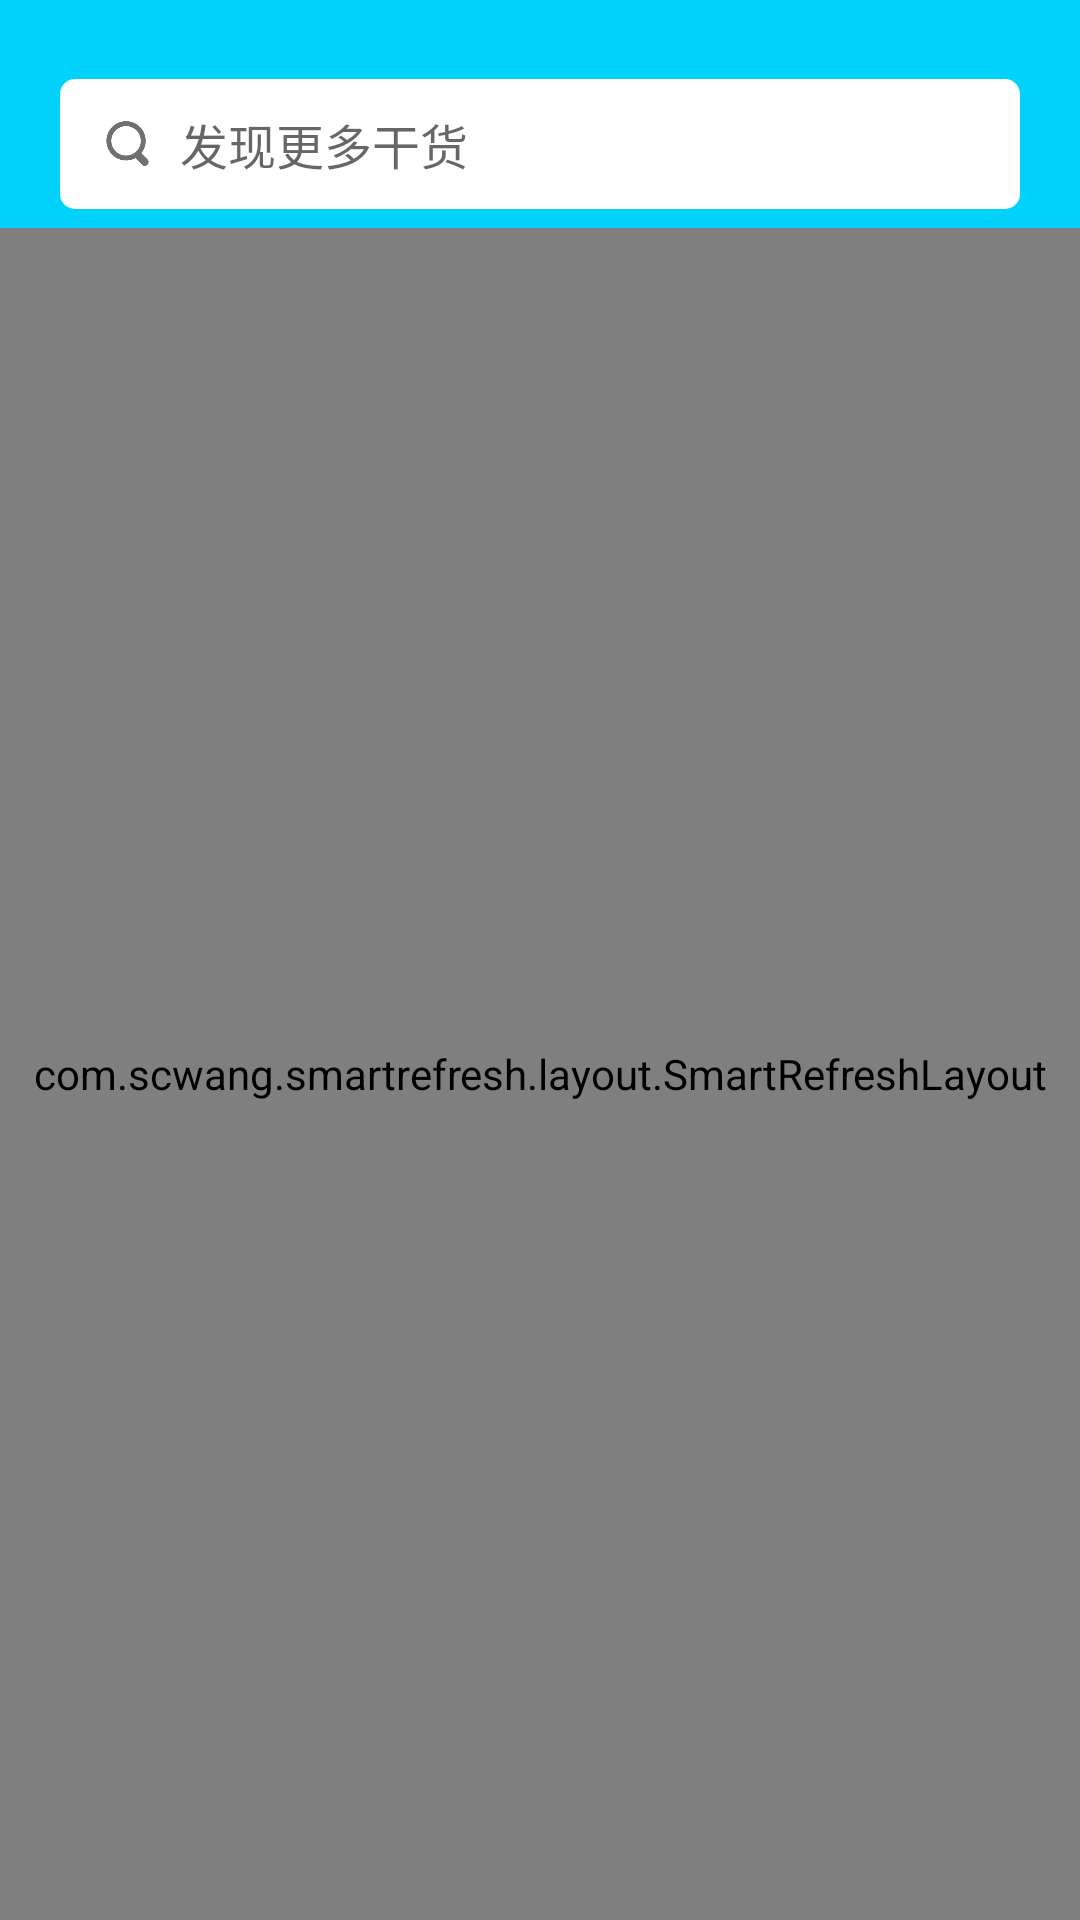

Icon bounding boxes for this 1080px×1920px phone screenshot, format region(x1, y1, x2, y2):
search: region(106, 121, 149, 166)
